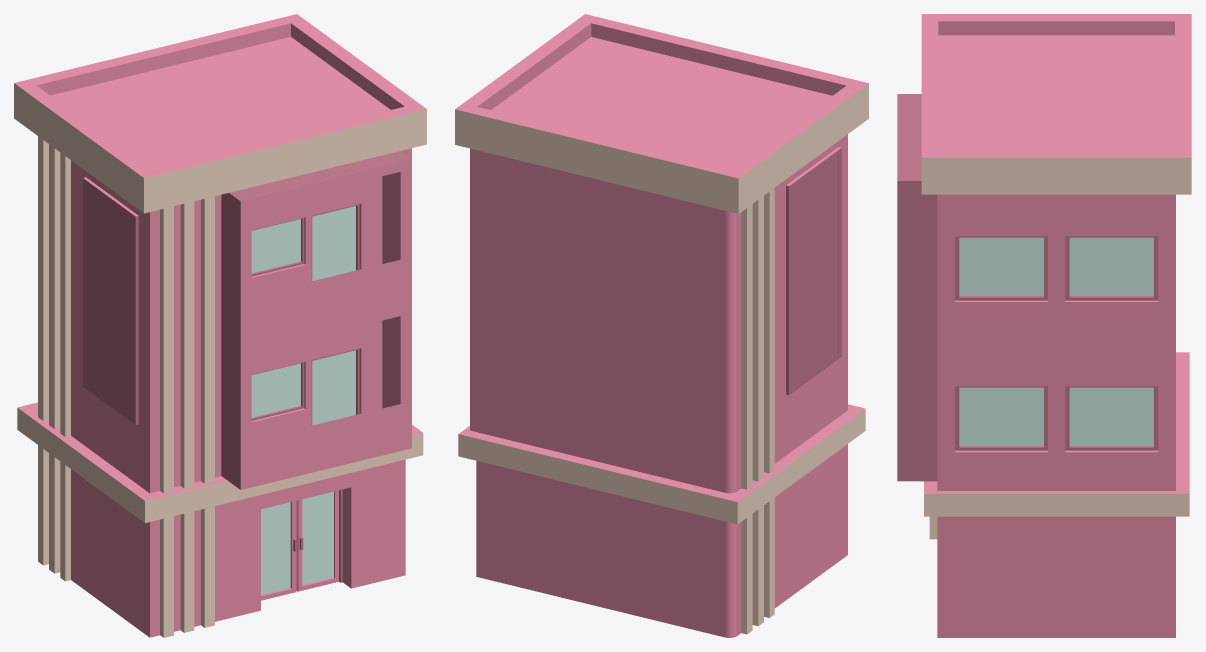
Rendered from Edificio1.fbx.
3 renders of one model, left to right at view 1: azimuth 30°, elevation 25°; view 2: azimuth 150°, elevation 25°; view 3: azimuth 270°, elevation 25°, orthographic. The views are drawn at different scales.
Parts seen in each view (by area): view 1: hotel; view 2: hotel; view 3: hotel.
Part boxes in pixels (bbox=[...]): hotel: bbox=[14, 14, 426, 637]; hotel: bbox=[455, 14, 868, 637]; hotel: bbox=[897, 14, 1191, 637].
Bounding box in the file's own units: 712 × 1127 × 617.
